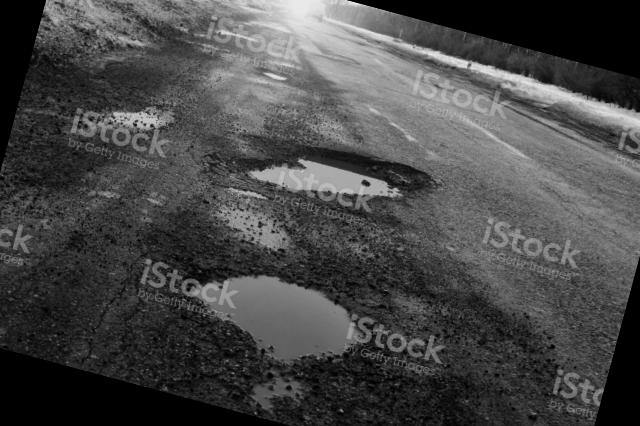Pothole: (166, 230, 407, 392), (223, 98, 452, 232)
